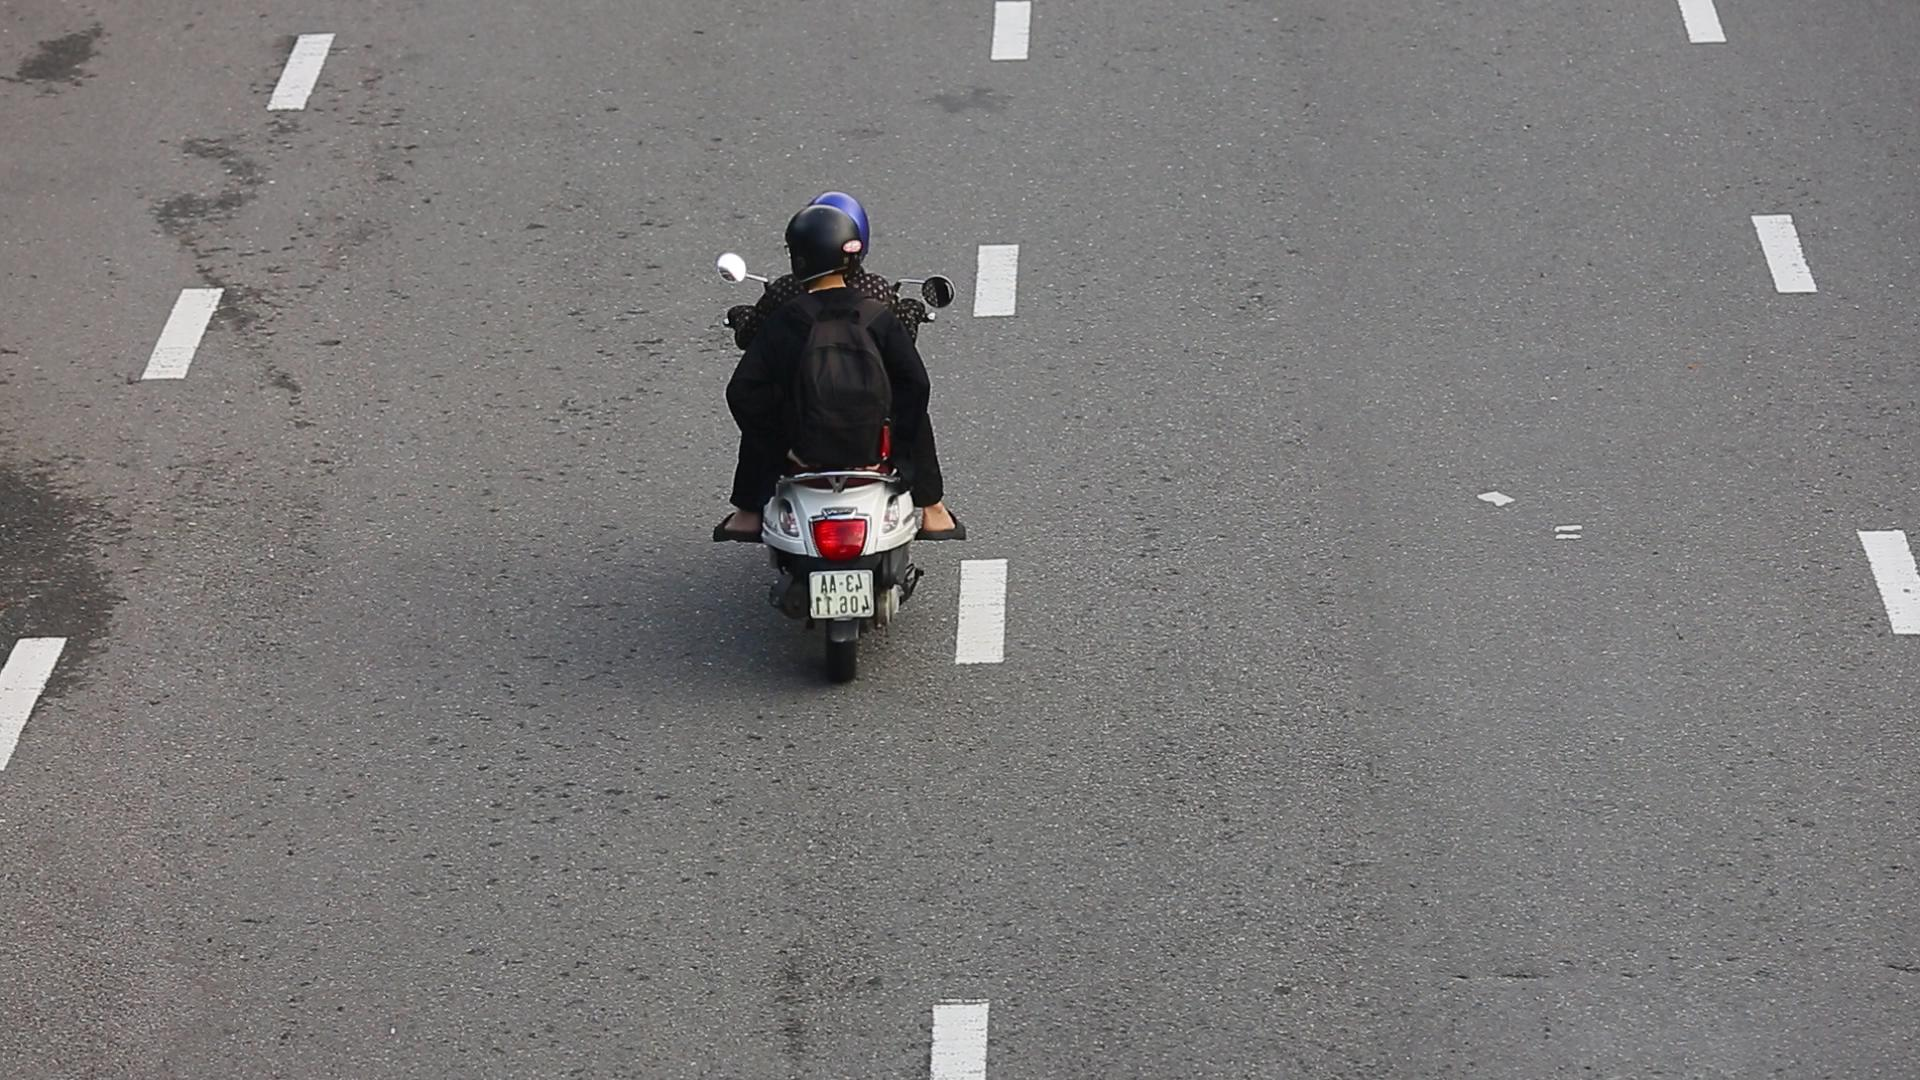motobike: (707, 181, 972, 699)
